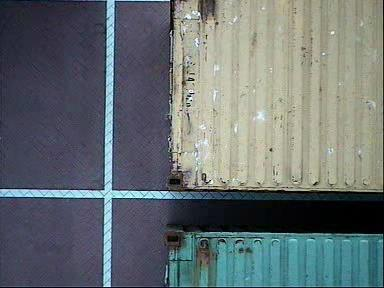groundmarker_2: (69, 92, 158, 141), (113, 230, 146, 275)
